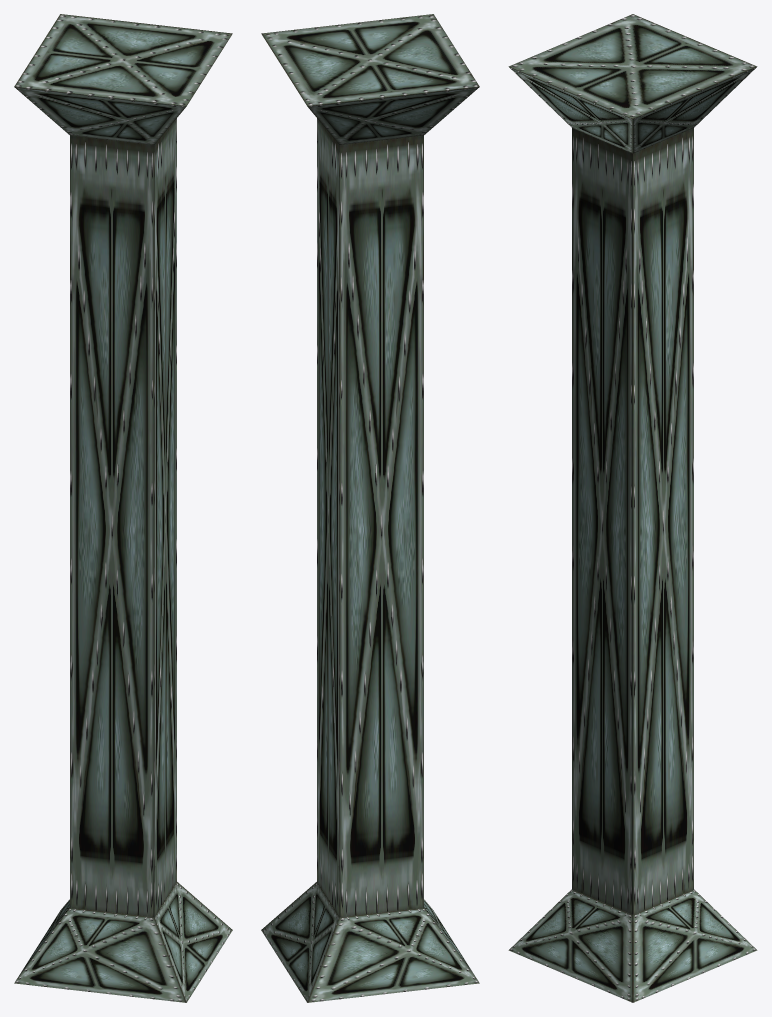
Rendered from Säule_583.glb.
3 renders of one model, left to right at view 1: azimuth 30°, elevation 25°; view 2: azimuth 150°, elevation 25°; view 3: azimuth 270°, elevation 25°, orthographic.
Parts seen in each view (by area): view 1: pPlaneShape4, pPlaneShape1, pPlaneShape5; view 2: pPlaneShape2, pPlaneShape3, pPlaneShape5; view 3: pPlaneShape1, pPlaneShape3, pPlaneShape5.
Part boxes in pixels (bbox=[...]): pPlaneShape4: bbox=[14, 87, 186, 1002]; pPlaneShape1: bbox=[154, 118, 232, 1002]; pPlaneShape5: bbox=[14, 14, 232, 106]; pPlaneShape2: bbox=[307, 87, 479, 1002]; pPlaneShape3: bbox=[261, 118, 339, 1002]; pPlaneShape5: bbox=[261, 14, 479, 106]; pPlaneShape1: bbox=[508, 67, 632, 1002]; pPlaneShape3: bbox=[633, 67, 757, 1002]; pPlaneShape5: bbox=[509, 14, 756, 118].
Size of the model in its own units: 0.0893 by 0.3495 by 0.0893.
5 materials, 5 textured.
